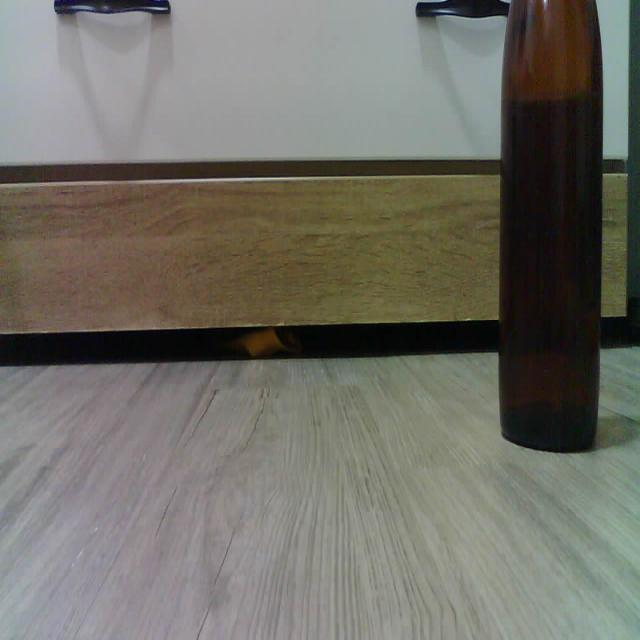bottle: (499, 0, 602, 451)
